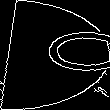O_W: (4, 31, 106, 79)
